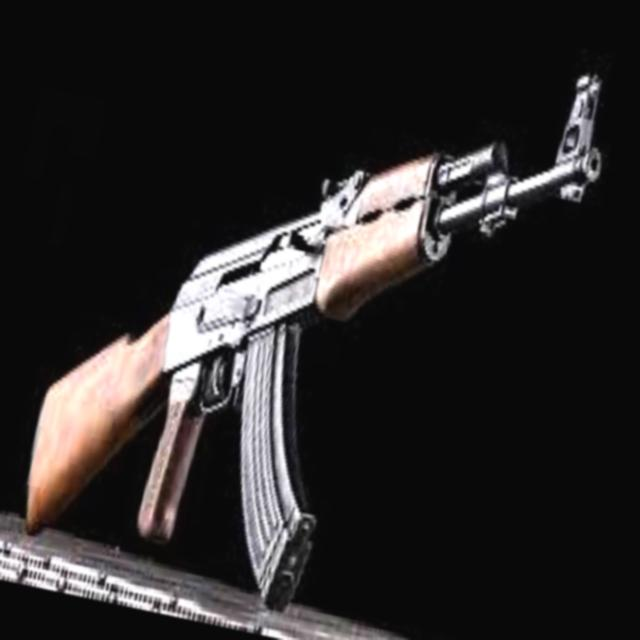ak: (3, 0, 626, 640)
